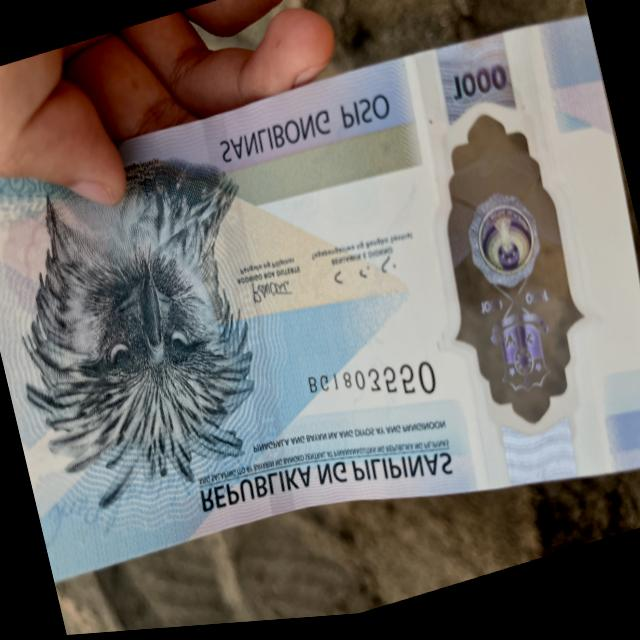clear_window: (367, 8, 640, 545)
eagle: (0, 126, 287, 534)
